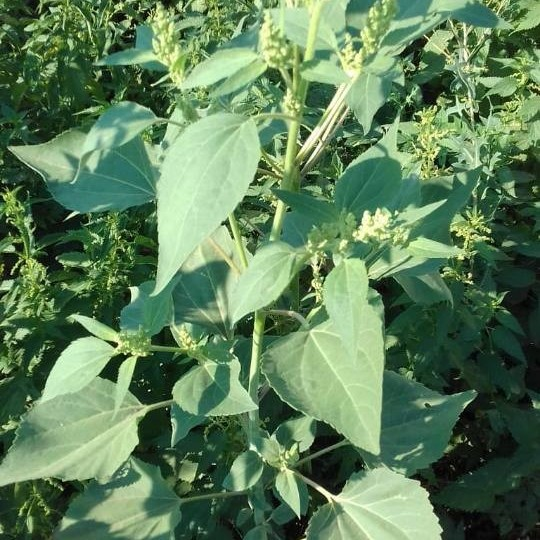obstacle: (87, 34, 458, 457)
